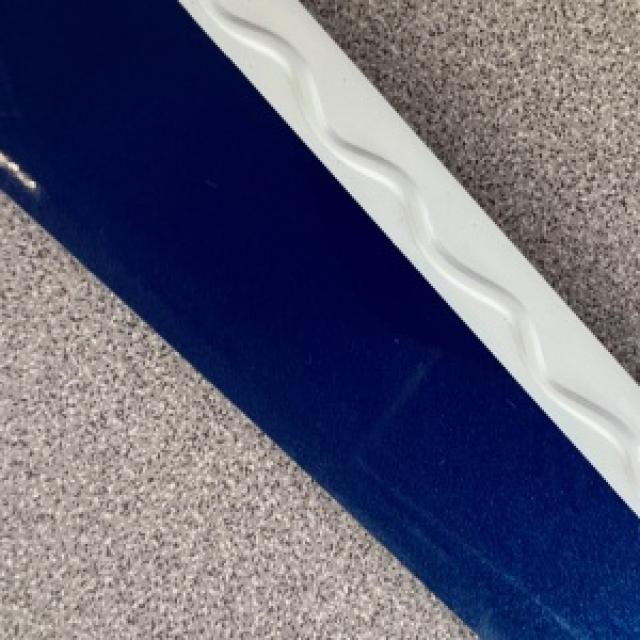healthy: (0, 0, 638, 638), (179, 0, 638, 512)
